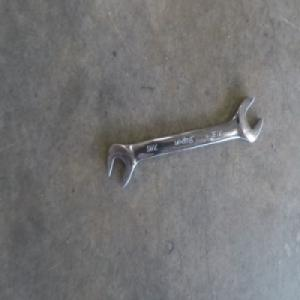Wrench: (104, 96, 262, 188)
